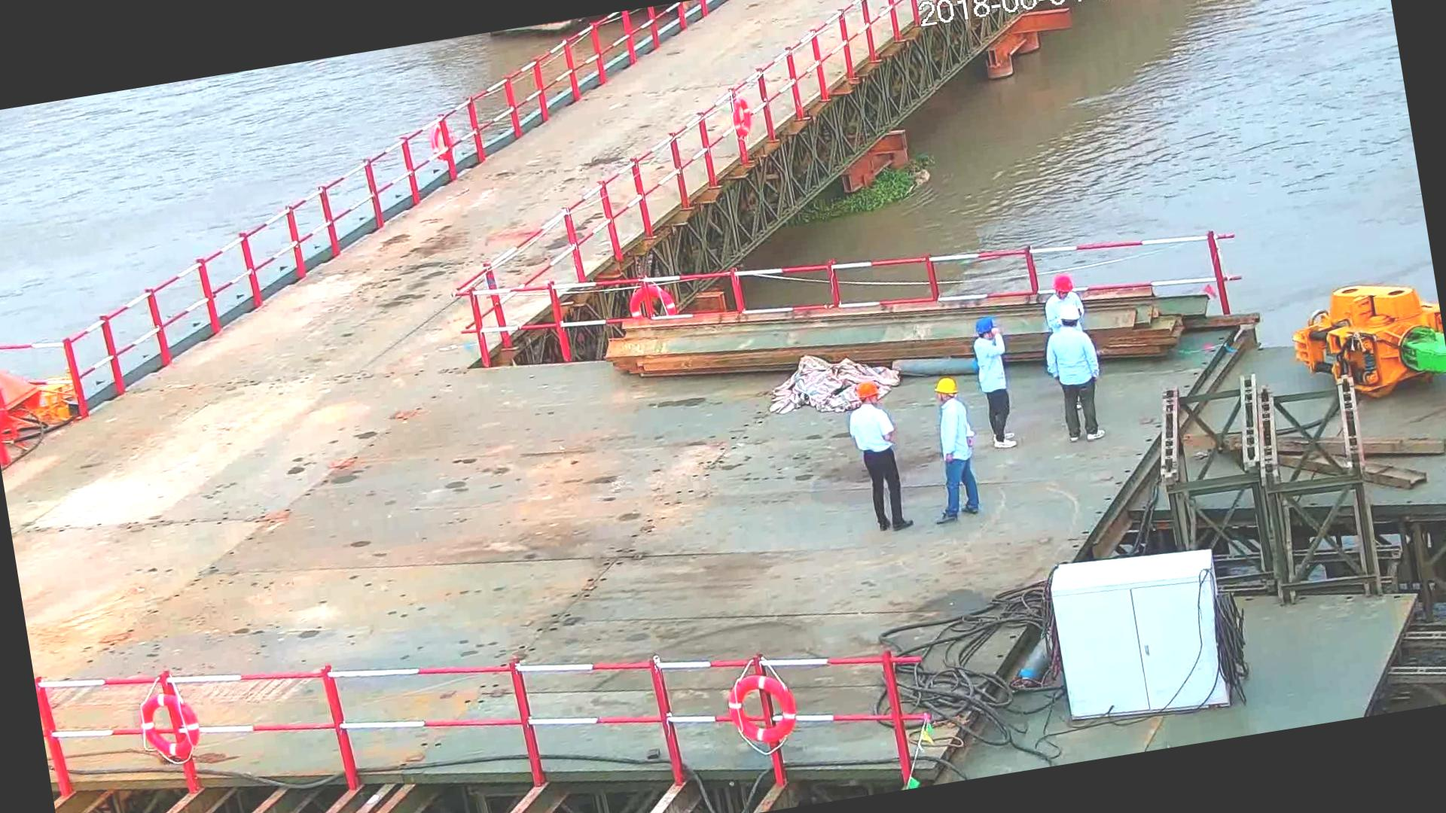helmet: (851, 374, 886, 406), (929, 370, 961, 404)
no_vest: (1043, 322, 1104, 405), (842, 397, 901, 465), (931, 392, 981, 472), (972, 332, 1019, 405)
person: (838, 364, 927, 544), (917, 365, 992, 527), (1037, 304, 1115, 447), (965, 305, 1030, 456)
